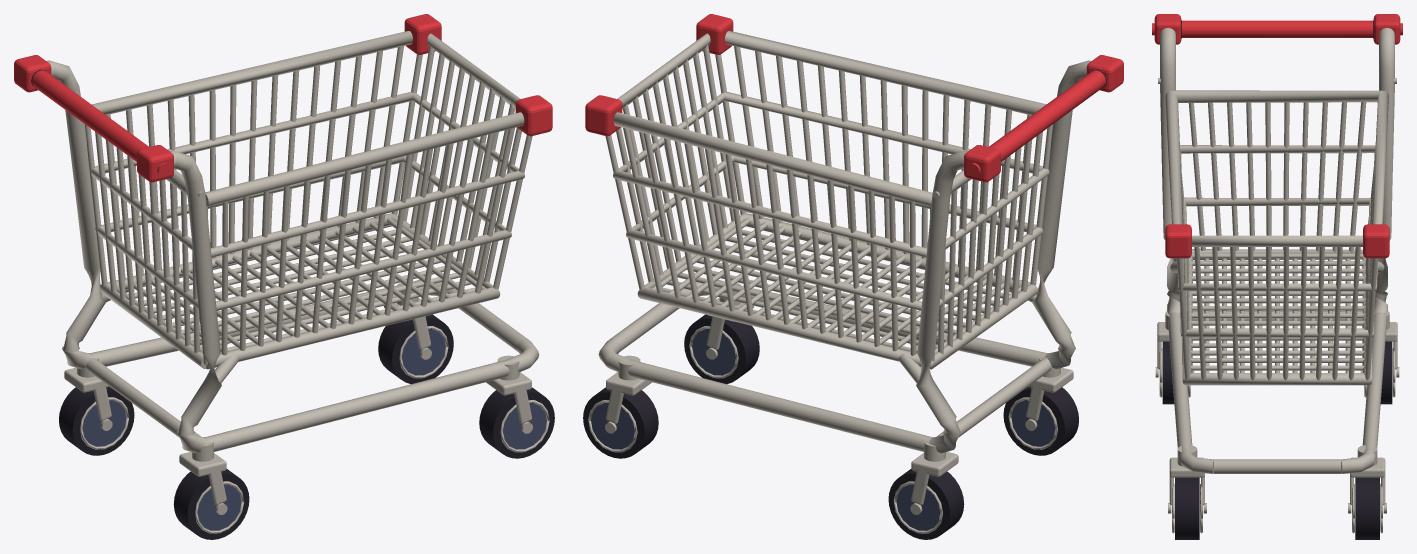
3 views of the same model, side by side, from view 1: azimuth 30°, elevation 25°; view 2: azimuth 150°, elevation 25°; view 3: azimuth 270°, elevation 25° (orthographic). The views are drawn at different scales.
Parts seen in each view (by area): view 1: body, redTrim, wheelRR, wheelFR, wheelRL, wheelFL, forkRR, forkFR, forkRL; view 2: body, redTrim, wheelRL, wheelFL, wheelRR, wheelFR, forkRL, forkFL, forkRR; view 3: body, redTrim, wheelFL, wheelFR, wheelRL, wheelRR, forkFL, forkFR, forkRL, forkRR.
Part boxes in pixels (left/top/right/bottom): body: left=46, top=31, right=539, bottom=453; redTrim: left=14, top=14, right=552, bottom=182; wheelRR: left=173, top=469, right=249, bottom=539; wheelFR: left=479, top=387, right=554, bottom=458; wheelRL: left=59, top=386, right=134, bottom=455; wheelFL: left=378, top=314, right=453, bottom=384; forkRR: left=179, top=437, right=226, bottom=505; forkFR: left=486, top=355, right=531, bottom=423; forkRL: left=64, top=353, right=111, bottom=421; body: left=598, top=31, right=1091, bottom=453; redTrim: left=585, top=14, right=1123, bottom=182; wheelRL: left=888, top=469, right=964, bottom=539; wheelFL: left=583, top=387, right=658, bottom=458; wheelRR: left=1003, top=386, right=1078, bottom=455; wheelFR: left=684, top=314, right=759, bottom=384; forkRL: left=911, top=437, right=958, bottom=505; forkFL: left=606, top=355, right=651, bottom=423; forkRR: left=1026, top=353, right=1073, bottom=421; body: left=1158, top=28, right=1396, bottom=473; redTrim: left=1152, top=14, right=1402, bottom=258; wheelFL: left=1348, top=477, right=1386, bottom=539; wheelFR: left=1168, top=477, right=1206, bottom=539; wheelRL: left=1360, top=341, right=1399, bottom=404; wheelRR: left=1155, top=341, right=1194, bottom=404; forkFL: left=1350, top=445, right=1385, bottom=504; forkFR: left=1169, top=445, right=1204, bottom=504; forkRL: left=1362, top=311, right=1397, bottom=369; forkRR: left=1157, top=311, right=1192, bottom=369.
Bounding box in the file's own units: 1.21 × 1.12 × 0.71.
